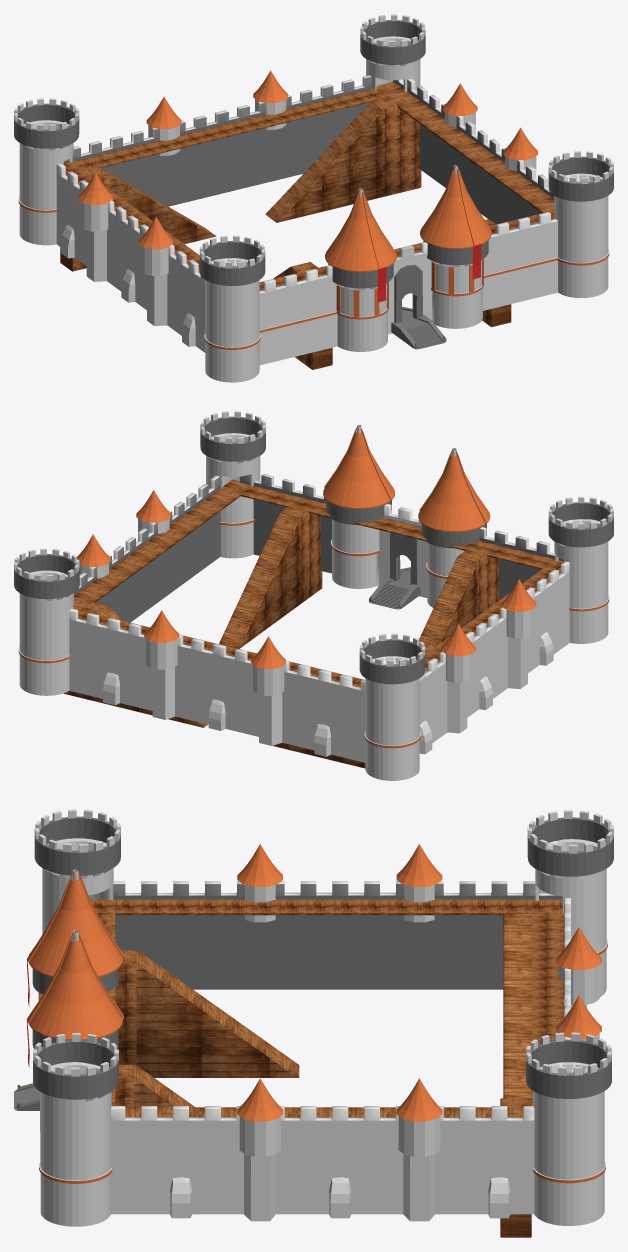
File: castel4.fbx
3 views of the same model, one above another, from view 1: azimuth 30°, elevation 25°; view 2: azimuth 150°, elevation 25°; view 3: azimuth 270°, elevation 25° (orthographic). The views are drawn at different scales.
Parts seen in each view (by area): view 1: Castle_Catle.006, Cube_Cube.006, Cube.004_Cube.007, Cube_Cube.007, Castle.003_Catle.009, Cube_Cube.002, Cube_Cube.005; view 2: Castle_Catle.006, Cube.004_Cube.007, Cube_Cube.005, Cube_Cube.002, Castle.003_Catle.009, Cube_Cube.006, Cube_Cube.007; view 3: Castle_Catle.006, Cube.004_Cube.007, Cube_Cube.002, Cube_Cube.007, Cube_Cube.005, Cube_Cube.006, Castle.003_Catle.009.
Part boxes in pixels (x1,y1,x2,y2): Castle_Catle.006: (14, 14, 613, 382); Cube_Cube.006: (265, 97, 421, 222); Cube.004_Cube.007: (63, 81, 554, 290); Cube_Cube.007: (60, 167, 216, 271); Castle.003_Catle.009: (391, 264, 446, 349); Cube_Cube.002: (273, 262, 332, 369); Cube_Cube.005: (482, 219, 511, 327); Castle_Catle.006: (14, 411, 613, 780); Cube.004_Cube.007: (73, 479, 563, 687); Cube_Cube.005: (219, 506, 322, 648); Cube_Cube.002: (419, 550, 498, 654); Castle.003_Catle.009: (368, 532, 420, 609); Cube_Cube.006: (63, 602, 207, 727); Cube_Cube.007: (272, 742, 365, 768); Castle_Catle.006: (27, 809, 613, 1226); Cube.004_Cube.007: (90, 899, 563, 1117); Cube_Cube.002: (115, 950, 299, 1077); Cube_Cube.007: (503, 913, 531, 1105); Cube_Cube.005: (115, 1064, 194, 1107); Cube_Cube.006: (500, 1098, 531, 1237); Castle.003_Catle.009: (14, 1083, 39, 1110).
Size of the model in its own units: 23350 by 9417 by 22759.
6 materials, 2 textured.
